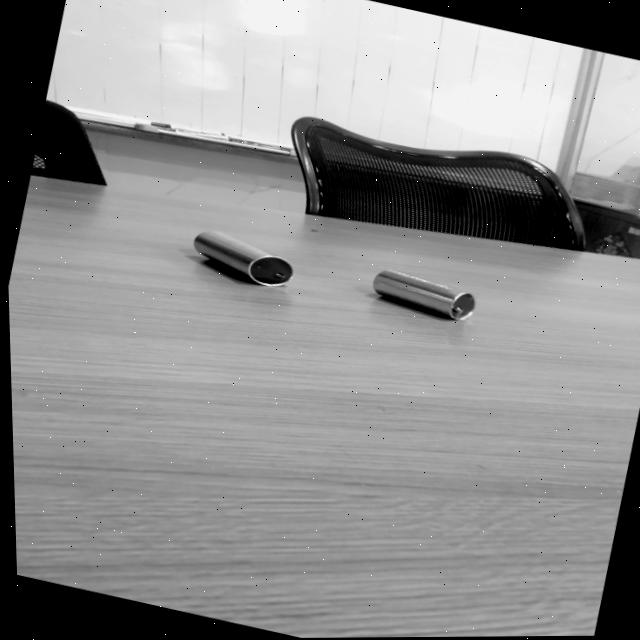Co_Lon: (188, 222, 297, 296)
Co_Nho: (370, 265, 478, 324)
